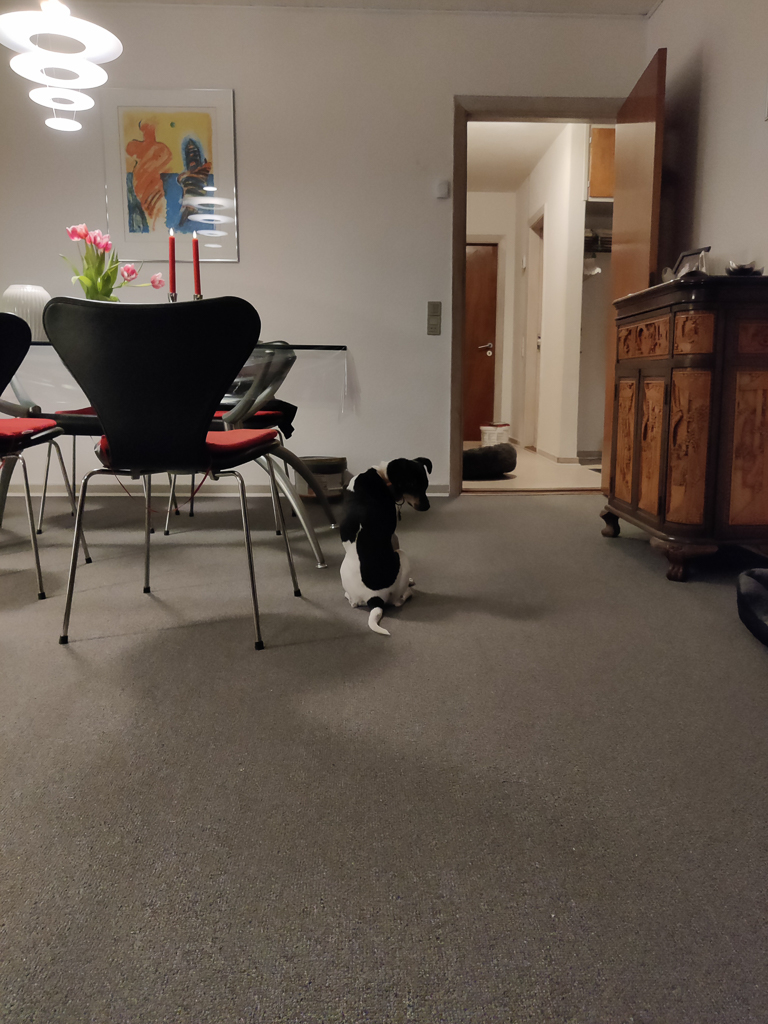Dog: (327, 446, 440, 642)
